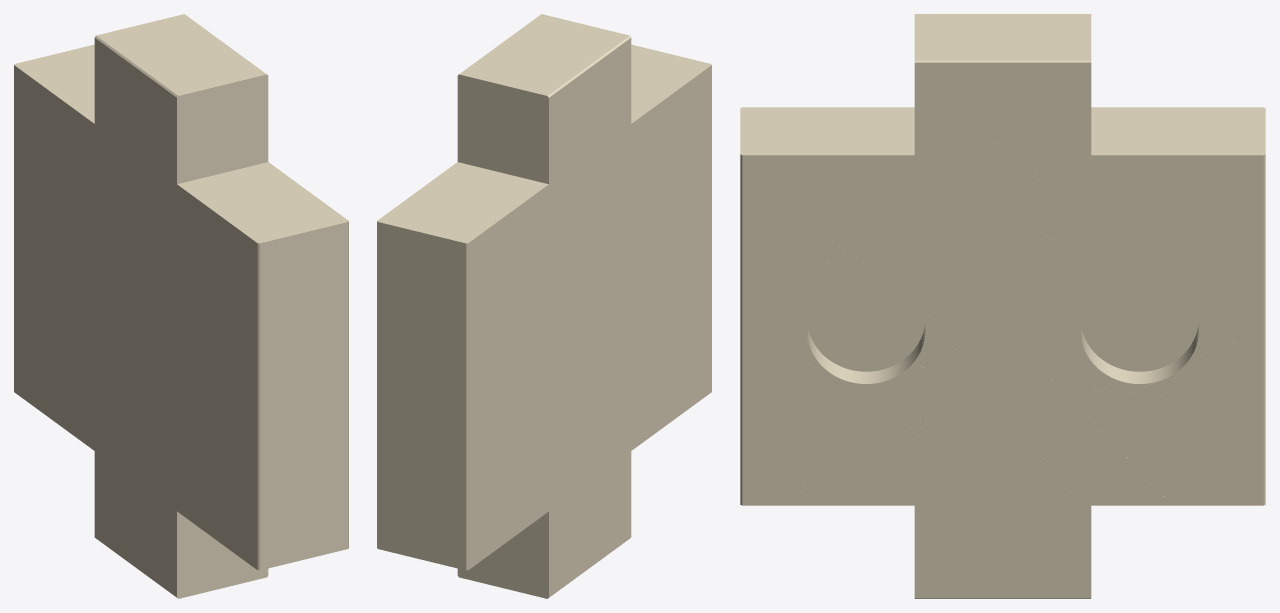
Rendered from takoz-soosan-sb121-ts-p-buffer-guide-02.glb.
3 renders of one model, left to right at view 1: azimuth 30°, elevation 25°; view 2: azimuth 150°, elevation 25°; view 3: azimuth 270°, elevation 25°, orthographic. The views are drawn at different scales.
Visible parts, largest first — view 1: body; view 2: body; view 3: body.
Boxes of the visible parts, bbox=[...] form: body: bbox=[14, 14, 348, 598]; body: bbox=[377, 14, 711, 598]; body: bbox=[740, 14, 1265, 598].
Bounding box in the file's own units: 0.062 × 0.326 × 0.288.
